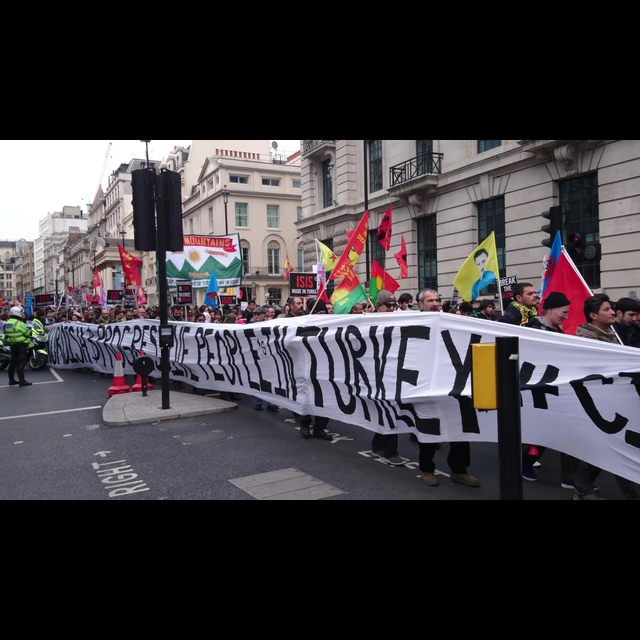PJAK: (326, 284, 357, 310)
